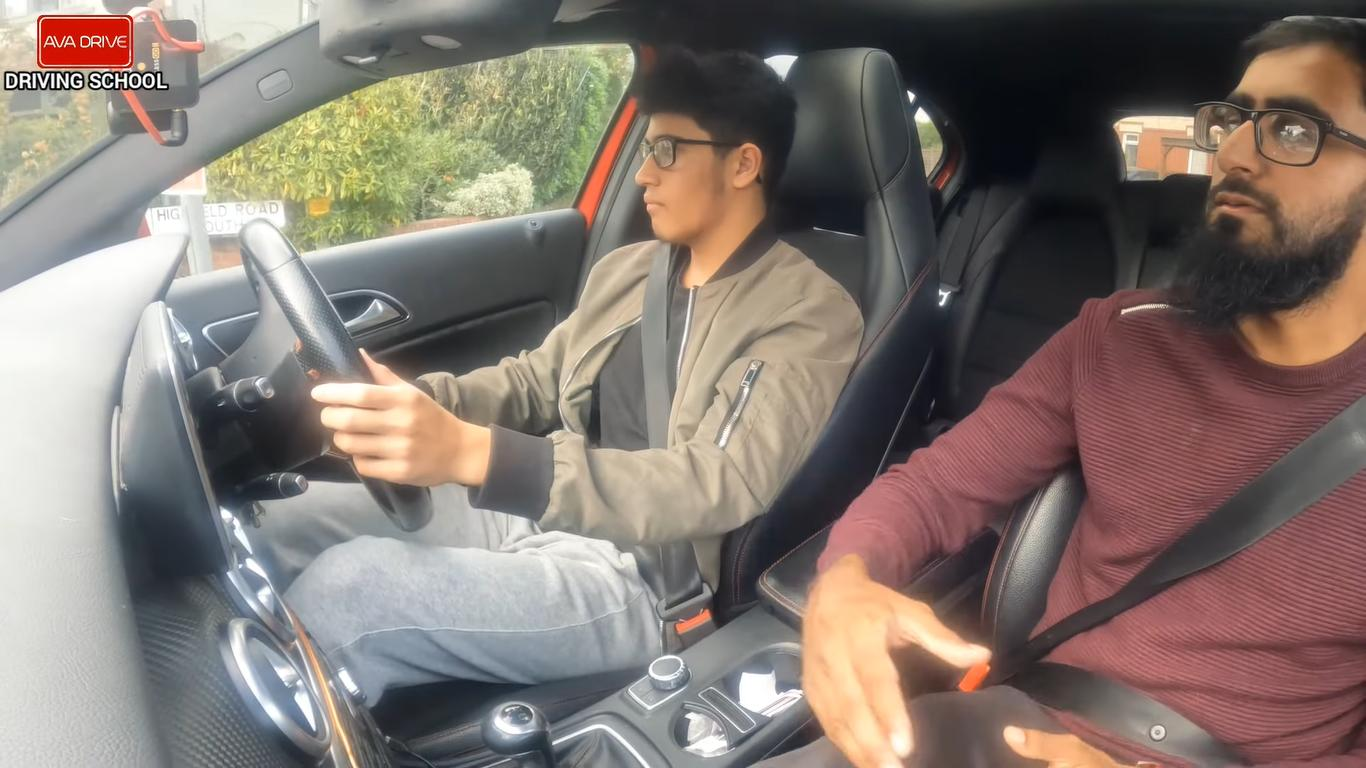seatbelt: (1060, 315, 1359, 737), (604, 255, 716, 554)
